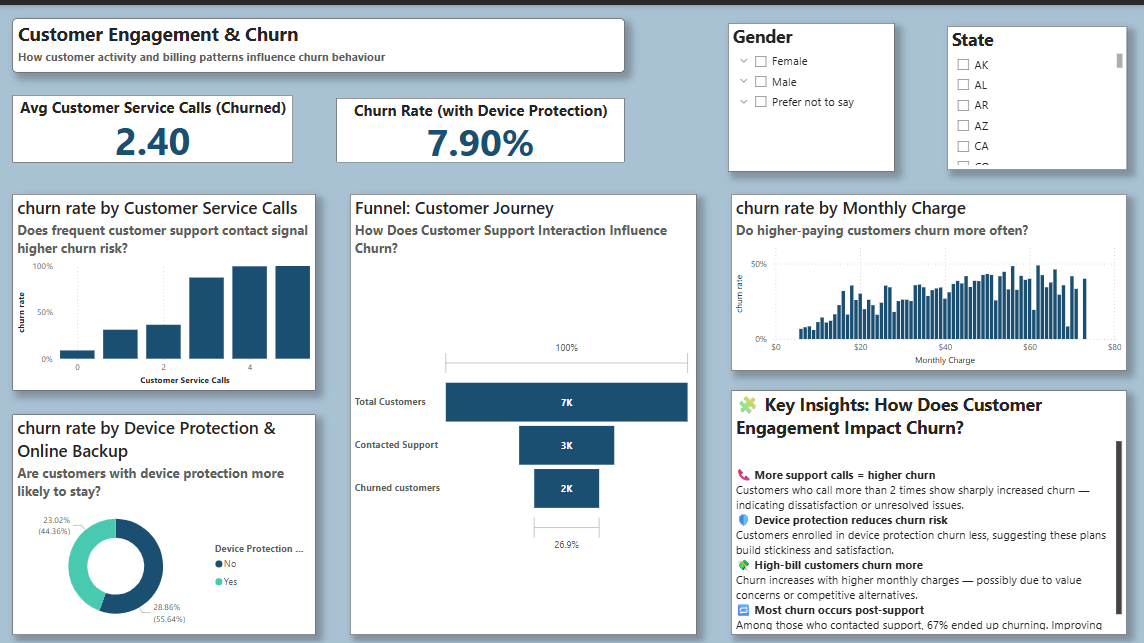

The dashboard page shown, as its layout file describes it:
{"tool":"powerbi","page":{"name":"Customer Engagement Analysis","canvas":[1640,960],"ordinal":5},"visuals":[{"type":"textbox","title":"Customer Engagement & Churn","box":[19.2,19.2,869.7,76.7],"z":0},{"type":"clusteredColumnChart","fields":{"Y":["Databel - Data.churn rate"],"Category":["Databel - Data.Customer Service Calls"]},"box":[19.2,268.6,430.6,279.3],"z":1000},{"type":"donutChart","fields":{"Category":["Databel - Data.Device Protection & Online Backup"],"Y":["Databel - Data.churn rate"]},"box":[19.2,582,430.6,313.4],"z":2000},{"type":"columnChart","fields":{"Y":["Databel - Data.churn rate"],"Category":["Databel - Data.Monthly Charge"]},"box":[1040.3,268.6,562.8,251.5],"z":3000},{"type":"card","title":"Avg Customer Service Calls (Churned)","fields":{"Values":["Databel - Data.Avg Service Calls (Churned)"]},"box":[19.2,127.9,398.6,95.9],"z":4000},{"type":"card","title":"Churn Rate (with Device Protection)","fields":{"Values":["Databel - Data.Churn Rate (Device Protection)"]},"box":[479.6,132.2,409.3,91.7],"z":5000},{"type":"funnel","title":"Funnel: Customer Journey","fields":{"Y":["Databel - Data.Number of Unique Customers","Databel - Data.Used Support","Databel - Data.number of churned customers"]},"box":[498.8,268.6,492.4,626.7],"z":6000},{"type":"slicer","title":"State","fields":{"Values":["Databel - Data.State"]},"box":[1347.3,29.8,255.8,204.6],"z":7000},{"type":"slicer","title":"Gender","fields":{"Values":["Databel - Data.Gender","Databel - Data.Contract Type"]},"box":[1036,25.6,236.6,211],"z":8000},{"type":"textbox","title":"🧩 Key Insights: How Does Customer Engagement Impact Churn?","box":[1040.3,547.9,562.8,347.5],"z":9000},{"type":"textbox","title":"Power BI Dashboard | Analysing Customer Churn ","box":[1036,914.5,569.2,44.8],"z":10000},{"type":"shape","title":"Previous Page","box":[637.4,914.5,292,44.8],"z":10002}]}

Visuals, with their boxes on the page's 1640x960 design canvas (x1, y1, x2, y2). These are canvas units, not pixel positions in the 1144x643 screenshot, which may show the page scaled, cropped or inside an application window:
"Customer Engagement & Churn" textbox: locate(19, 19, 889, 96)
clusteredColumnChart - Databel - Data.churn rate x Databel - Data.Customer Service Calls: locate(19, 269, 450, 548)
donutChart - Databel - Data.Device Protection & Online Backup x Databel - Data.churn rate: locate(19, 582, 450, 895)
columnChart - Databel - Data.churn rate x Databel - Data.Monthly Charge: locate(1040, 269, 1603, 520)
"Avg Customer Service Calls (Churned)" card: locate(19, 128, 418, 224)
"Churn Rate (with Device Protection)" card: locate(480, 132, 889, 224)
"Funnel: Customer Journey" funnel: locate(499, 269, 991, 895)
"State" slicer: locate(1347, 30, 1603, 234)
"Gender" slicer: locate(1036, 26, 1273, 237)
"🧩 Key Insights: How Does Customer Engagement Impact Churn?" textbox: locate(1040, 548, 1603, 895)
"Power BI Dashboard | Analysing Customer Churn " textbox: locate(1036, 914, 1605, 959)
"Previous Page" shape: locate(637, 914, 929, 959)
